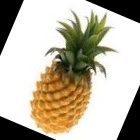Pineapple: (31, 6, 110, 134)
